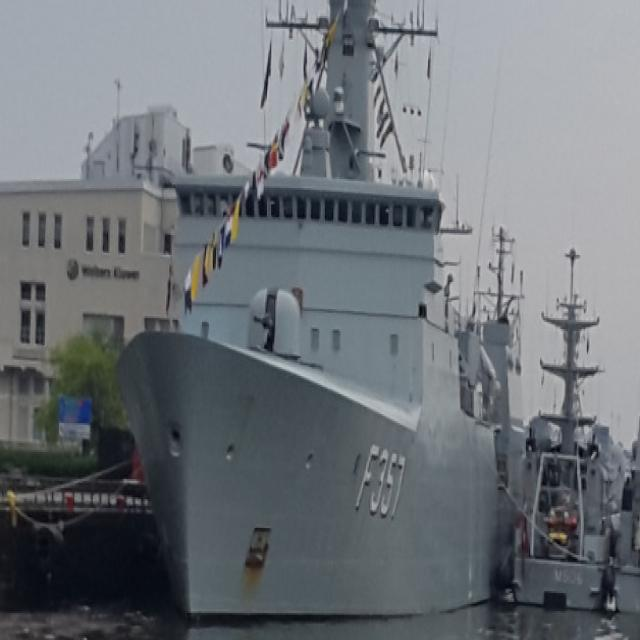Fragata: (106, 1, 525, 634)
